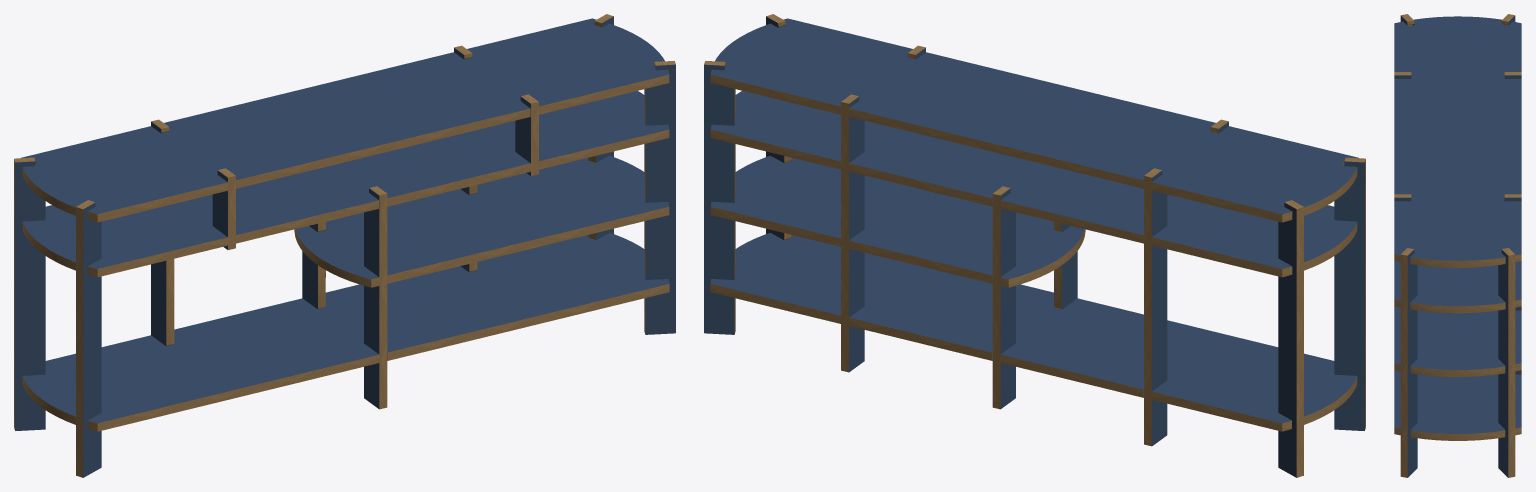
File: NODO_RACK_CUARZO_V1.glb
3 renders of one model, left to right at view 1: azimuth 30°, elevation 25°; view 2: azimuth 150°, elevation 25°; view 3: azimuth 270°, elevation 25°, orthographic. The views are drawn at different scales.
Visible parts, largest first — view 1: A_KIRI, C_KIRI, B_KIRI, D_KIRI, G_right_front_KIRI, F_left_rear_KIRI, F_left_front_KIRI, H_front_KIRI, F_rear_KIRI, E_front_R_KIRI, E_front_L_KIRI, H_rear_KIRI; view 2: A_KIRI, C_KIRI, B_KIRI, D_KIRI, G_right_rear_KIRI, F_left_front_KIRI, F_left_rear_KIRI, F_rear_KIRI, G_rear_KIRI, H_rear_KIRI, H_front_KIRI; view 3: A_KIRI, C_KIRI, D_KIRI, B_KIRI, G_right_front_KIRI, G_right_rear_KIRI, G_rear_KIRI.
Part boxes in pixels (bbox=[...]): A_KIRI: bbox=[21, 18, 669, 222]; C_KIRI: bbox=[22, 233, 669, 431]; B_KIRI: bbox=[22, 91, 669, 277]; D_KIRI: bbox=[294, 155, 669, 287]; G_right_front_KIRI: bbox=[644, 61, 675, 334]; F_left_rear_KIRI: bbox=[14, 157, 45, 430]; F_left_front_KIRI: bbox=[76, 200, 101, 477]; H_front_KIRI: bbox=[364, 186, 387, 409]; F_rear_KIRI: bbox=[151, 119, 174, 346]; E_front_R_KIRI: bbox=[515, 94, 538, 176]; E_front_L_KIRI: bbox=[212, 168, 235, 249]; H_rear_KIRI: bbox=[302, 221, 325, 309]; A_KIRI: bbox=[710, 18, 1358, 222]; C_KIRI: bbox=[710, 232, 1357, 431]; B_KIRI: bbox=[710, 91, 1357, 277]; D_KIRI: bbox=[710, 156, 1085, 287]; G_right_rear_KIRI: bbox=[704, 61, 735, 334]; F_left_front_KIRI: bbox=[1334, 157, 1365, 430]; F_left_rear_KIRI: bbox=[1278, 200, 1303, 477]; F_rear_KIRI: bbox=[1144, 168, 1167, 446]; G_rear_KIRI: bbox=[841, 94, 864, 372]; H_rear_KIRI: bbox=[992, 186, 1015, 409]; H_front_KIRI: bbox=[1054, 221, 1077, 309]; A_KIRI: bbox=[1394, 16, 1521, 267]; C_KIRI: bbox=[1394, 370, 1521, 440]; D_KIRI: bbox=[1394, 306, 1521, 376]; B_KIRI: bbox=[1394, 261, 1521, 313]; G_right_front_KIRI: bbox=[1400, 248, 1417, 477]; G_right_rear_KIRI: bbox=[1498, 248, 1515, 477]; G_rear_KIRI: bbox=[1504, 194, 1521, 374].
Bounding box in the file's own units: 1.36 × 0.578 × 0.3.
2 materials, 2 textured.
